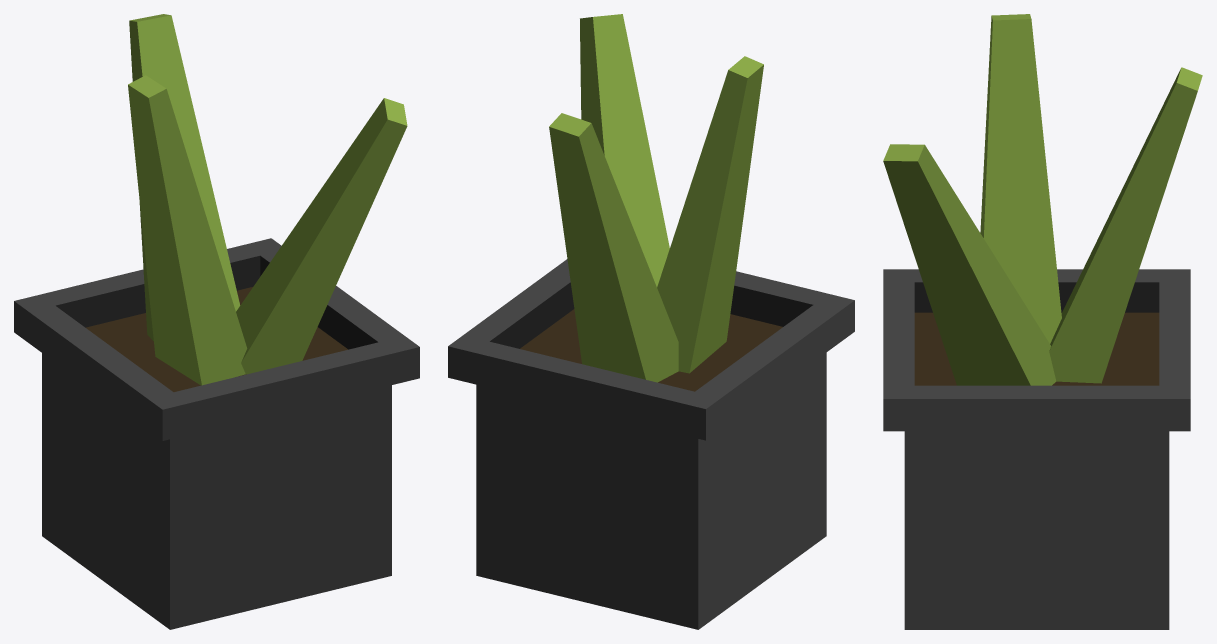
Rendered from SO_Plant_05.fbx.
The picture shows the model from 3 angles, left to right: view 1: azimuth 30°, elevation 25°; view 2: azimuth 150°, elevation 25°; view 3: azimuth 270°, elevation 25°; orthographic projection. The views are drawn at different scales.
Visible parts, largest first — view 1: SO_Plant_05; view 2: SO_Plant_05; view 3: SO_Plant_05.
Part boxes in pixels (<box>): SO_Plant_05: <box>14,14,419,629</box>; SO_Plant_05: <box>448,14,854,629</box>; SO_Plant_05: <box>883,14,1202,629</box>.
Bounding box in the file's own units: 0.3626 × 0.6729 × 0.3765.
